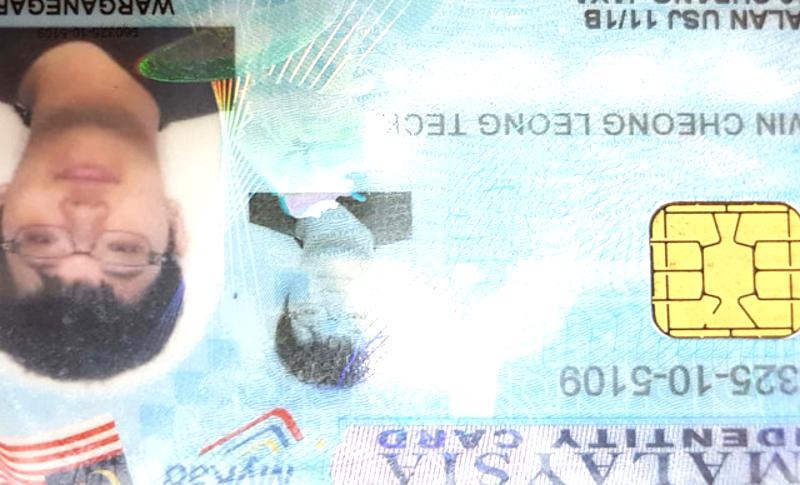hologramB: (238, 3, 381, 187)
